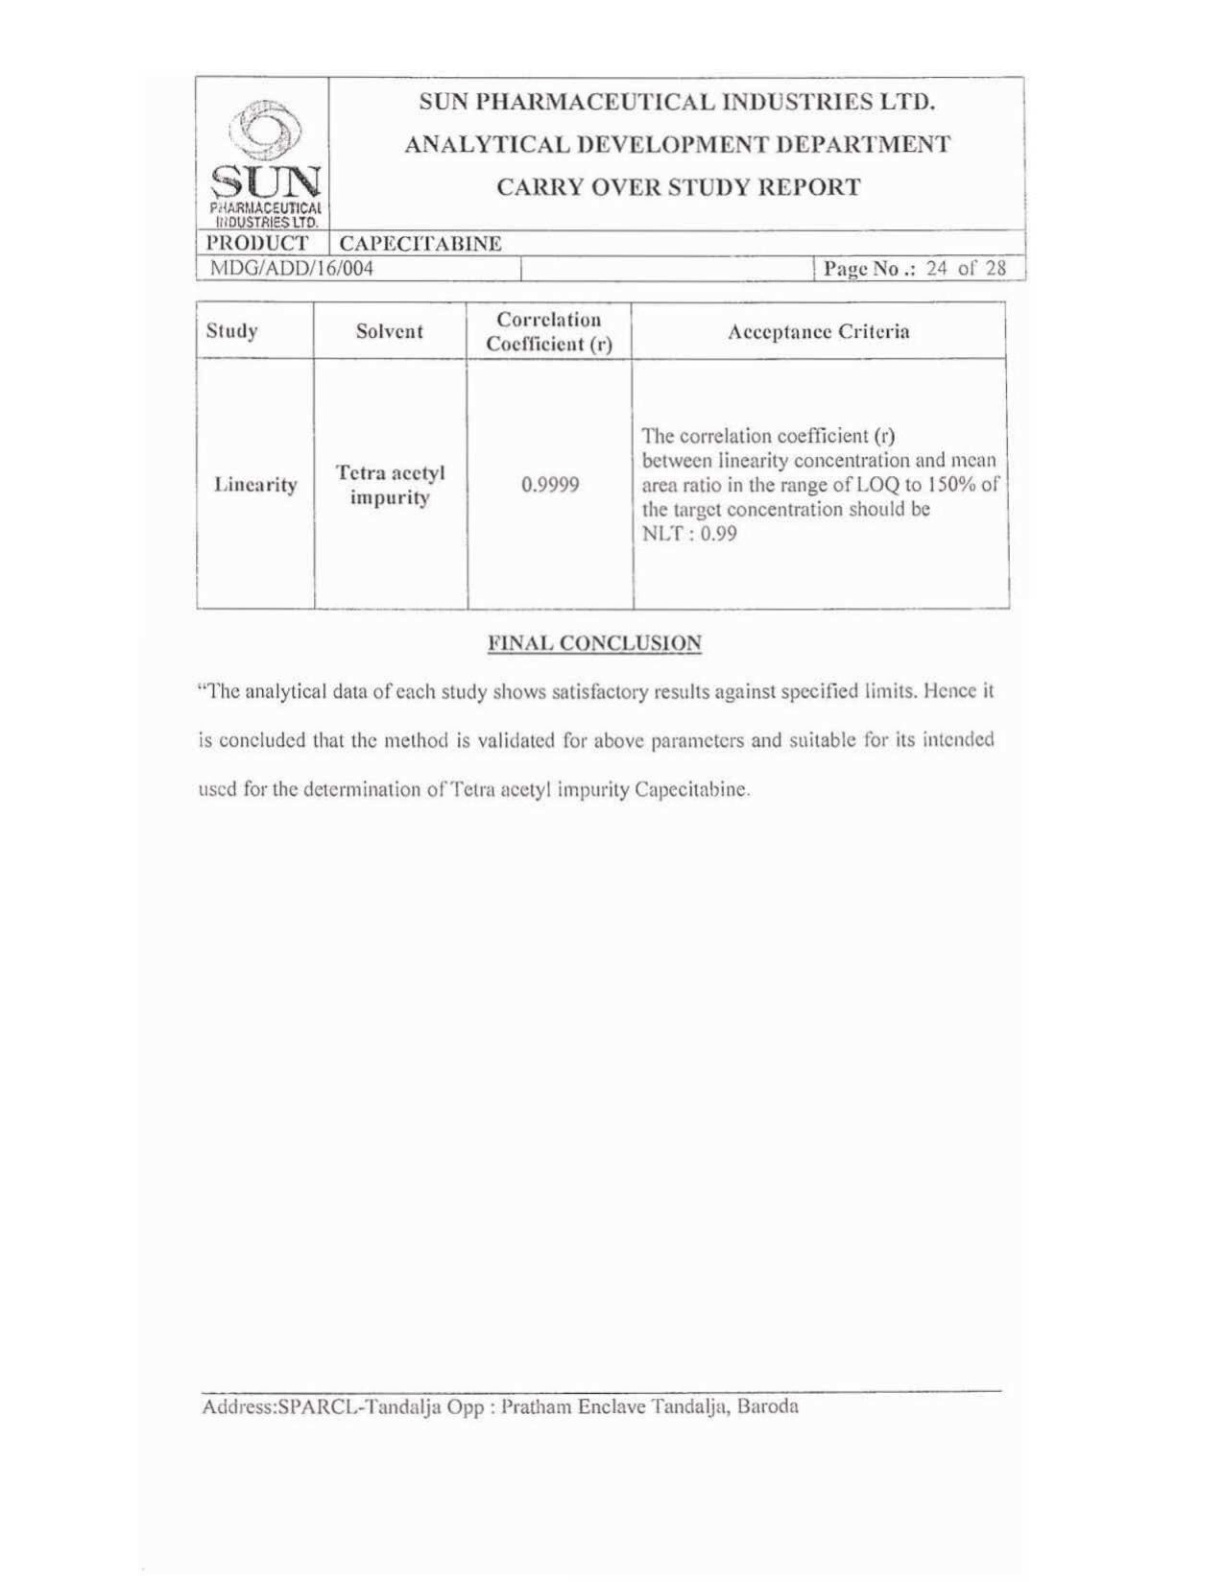full_lined: (194, 298, 1013, 612)
merged_cells: (194, 75, 1027, 283)
